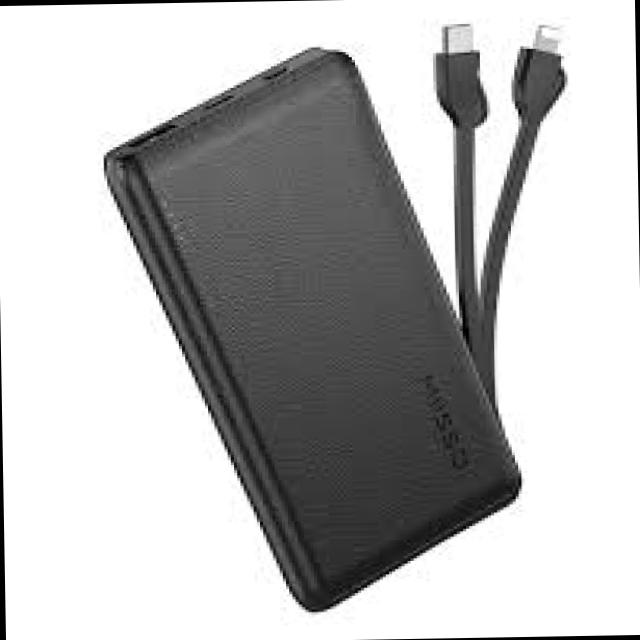power_bank: (82, 39, 529, 622)
